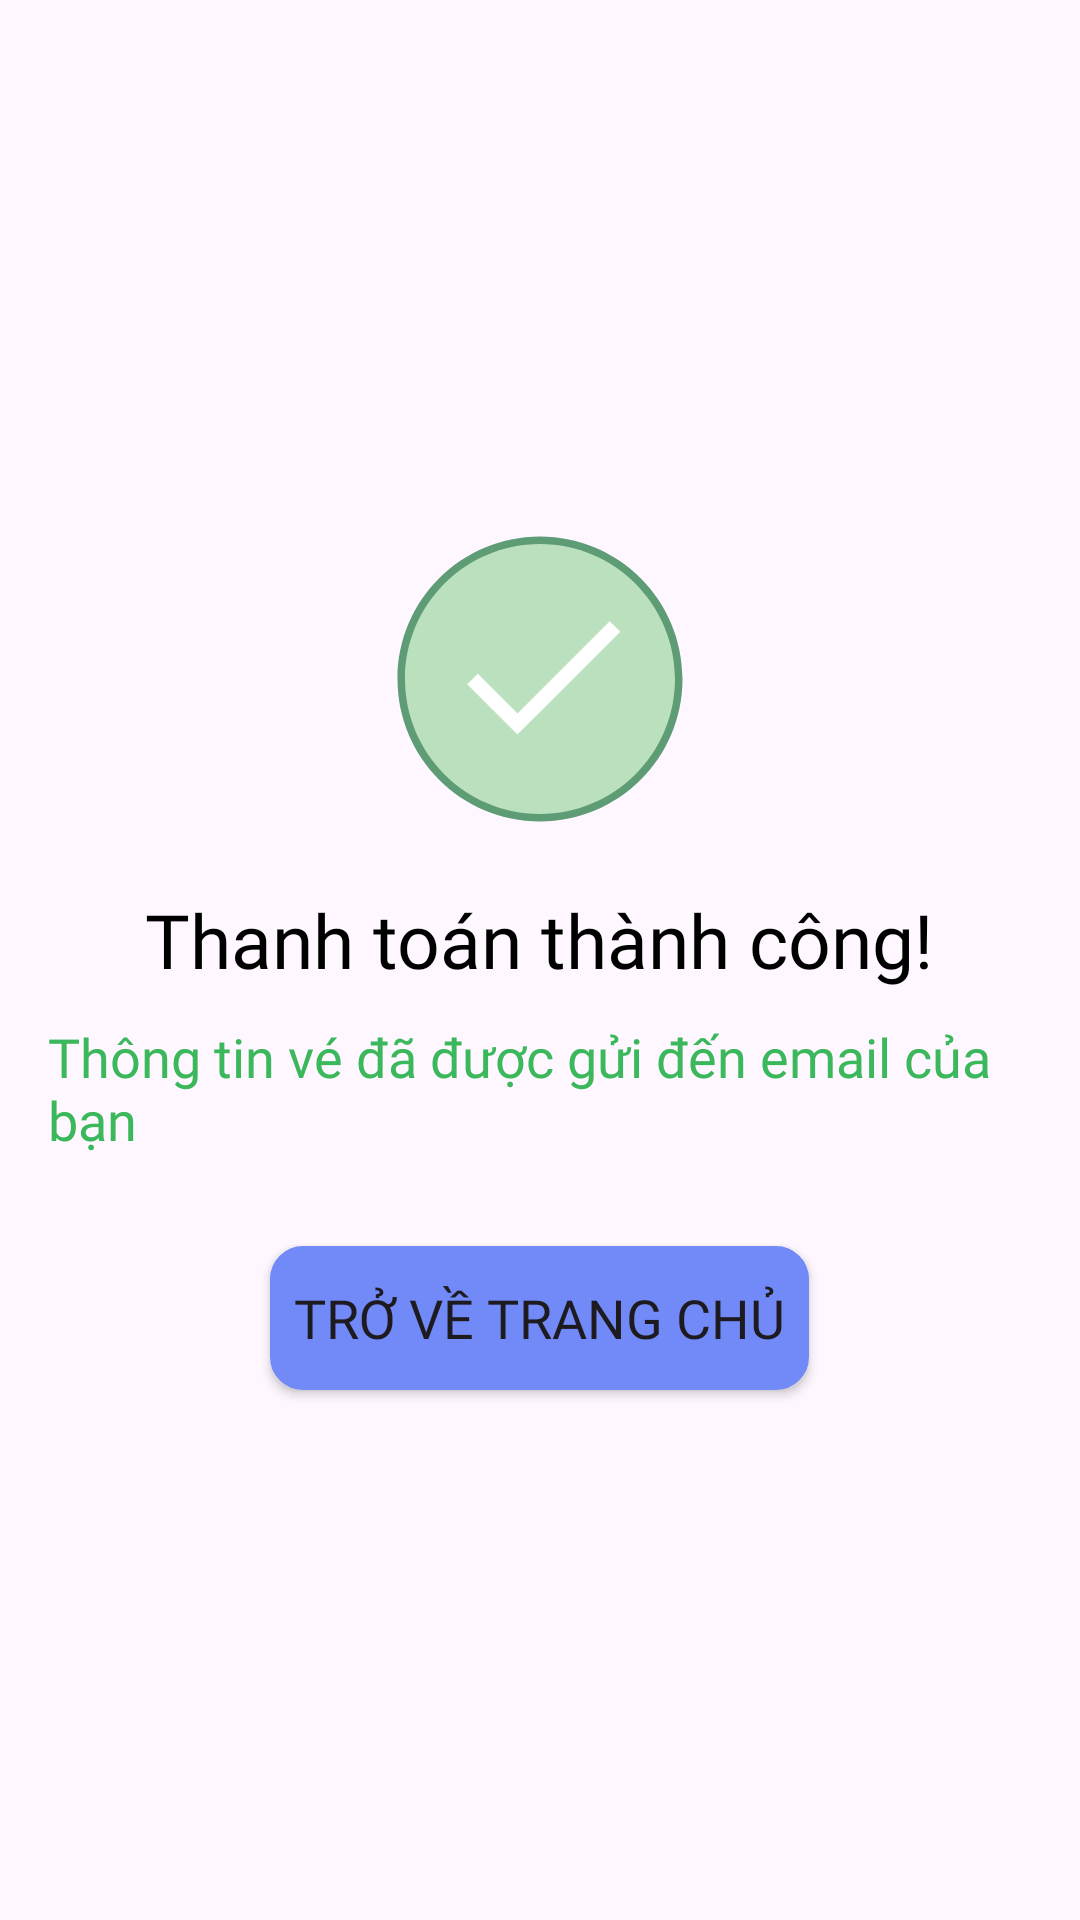

Icon bounding boxes for this 1080 x 1920 phone screenshot, format region(x1, y1, x2, y2):
success: region(397, 536, 683, 822)
